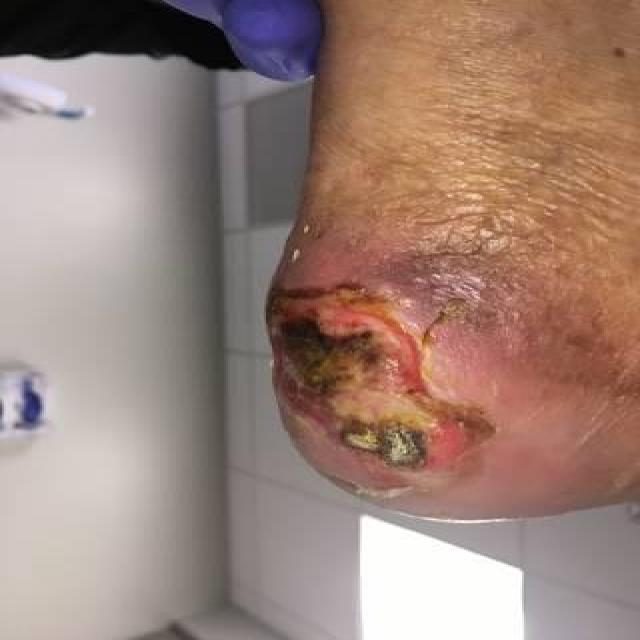Unstageable: (267, 288, 494, 477)
